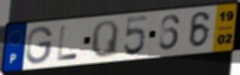5: (122, 14, 149, 58)
6: (187, 10, 213, 50), (158, 14, 182, 52)
G: (24, 25, 54, 66)
L: (56, 24, 80, 62)
Q: (90, 19, 120, 60)
